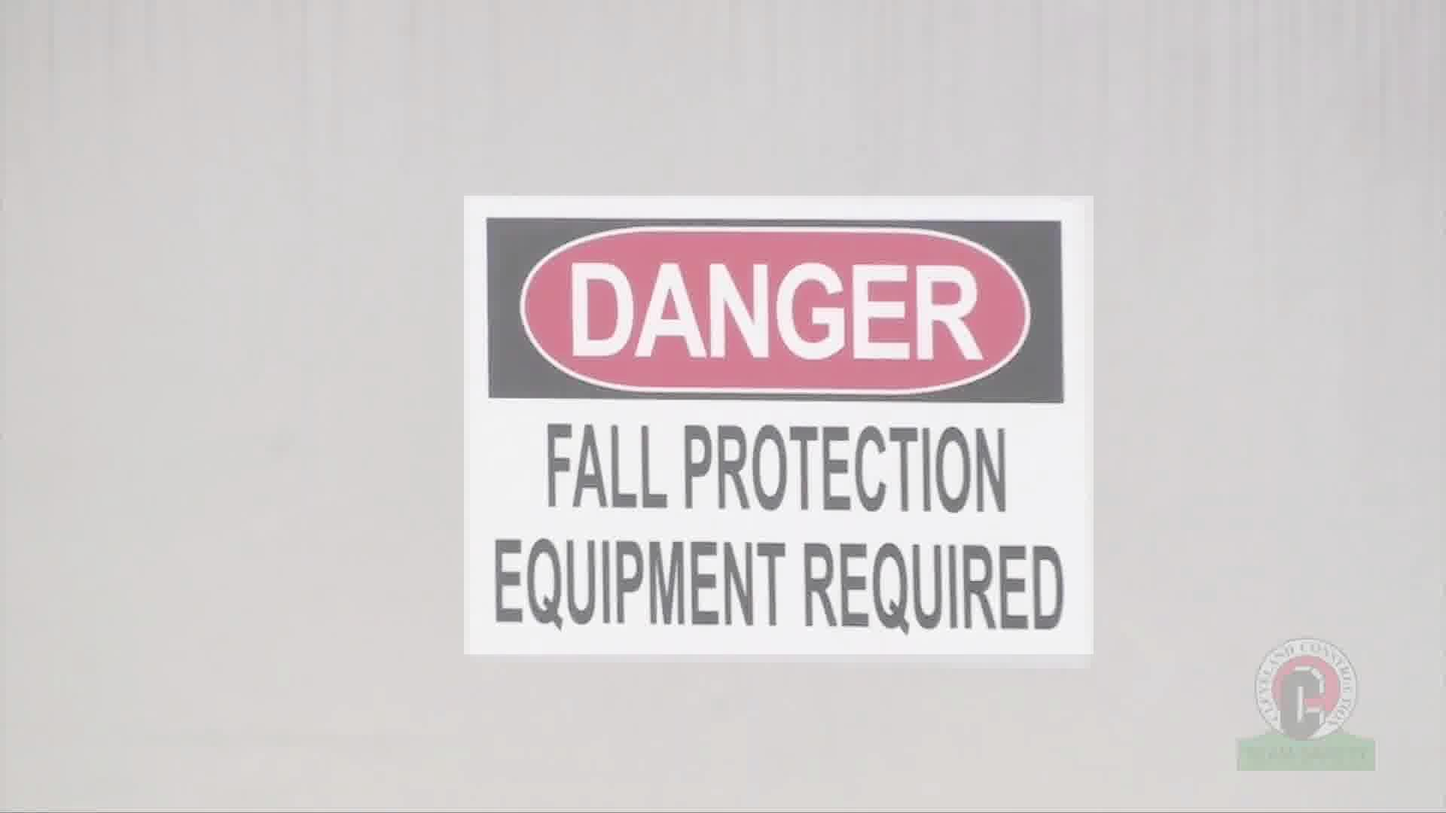safety_signage: (464, 196, 1094, 654)
